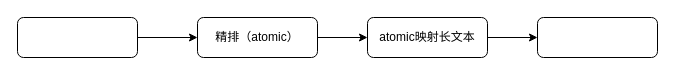
Image size: 675x75. Some labels were removed from this diagram. Each missing label, with the box of its shape:
召回（atomic）: (16, 16, 138, 58)
长文本去重: (536, 16, 658, 58)
